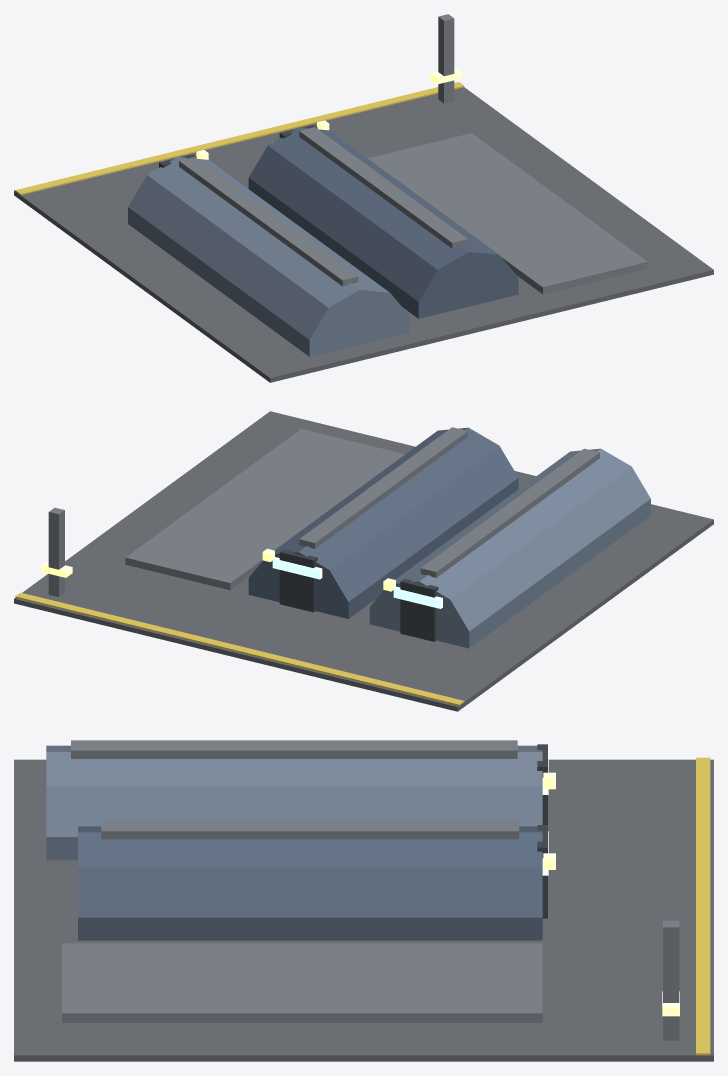
File: zone_low_6_t1.glb
3 renders of one model, top to bottom at view 1: azimuth 30°, elevation 25°; view 2: azimuth 150°, elevation 25°; view 3: azimuth 270°, elevation 25°, orthographic. The views are drawn at different scales.
Parts seen in each view (by area): view 1: zone_low_6_t1, detail; view 2: zone_low_6_t1, detail; view 3: zone_low_6_t1, detail.
Part boxes in pixels (x1,y1,x2,y2): zone_low_6_t1: (14, 87, 713, 382); detail: (15, 14, 464, 195); zone_low_6_t1: (14, 411, 713, 711); detail: (15, 507, 464, 705); zone_low_6_t1: (14, 740, 713, 1061); detail: (543, 757, 710, 1055).
Bounding box in the file's own units: 19.6 × 3.7 × 19.6.
